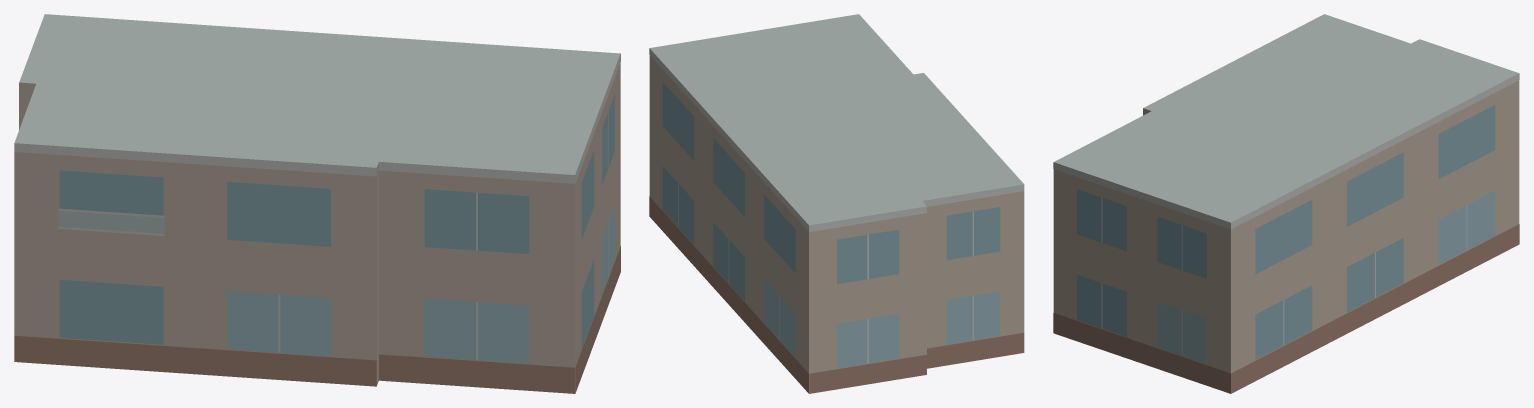
File: survey-upis-32837858.glb
3 views of the same model, side by side, from view 1: azimuth 30°, elevation 25°; view 2: azimuth 150°, elevation 25°; view 3: azimuth 270°, elevation 25° (orthographic). The views are drawn at different scales.
Parts seen in each view (by area): view 1: survey-upis-32837858.tmp; view 2: survey-upis-32837858.tmp; view 3: survey-upis-32837858.tmp.
Boxes of the visible parts, x1,y1,x2,y2 form: survey-upis-32837858.tmp: [14, 14, 620, 393]; survey-upis-32837858.tmp: [649, 14, 1024, 393]; survey-upis-32837858.tmp: [1053, 14, 1519, 393].
Size of the model in its own units: 15.96 by 6.1 by 15.05.
